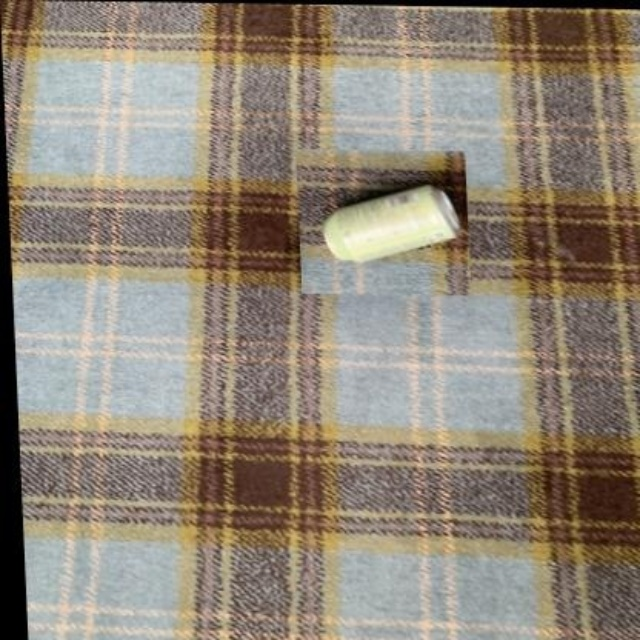trash: (323, 185, 458, 262)
